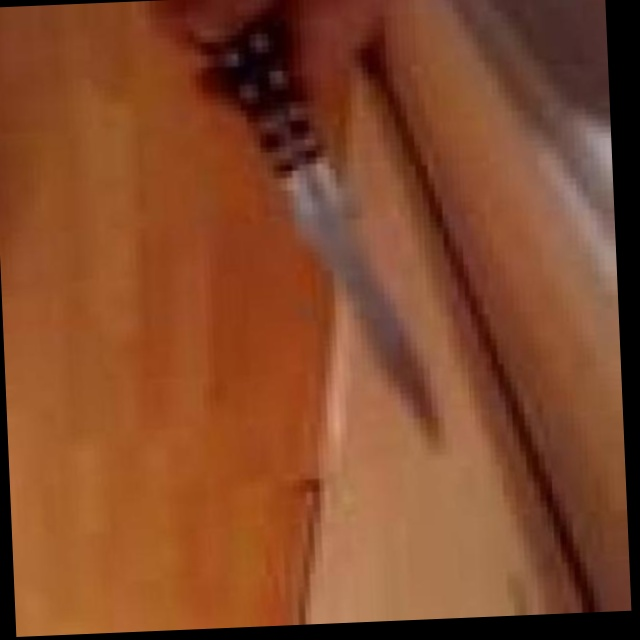Sharp-Object: (214, 0, 436, 450)
